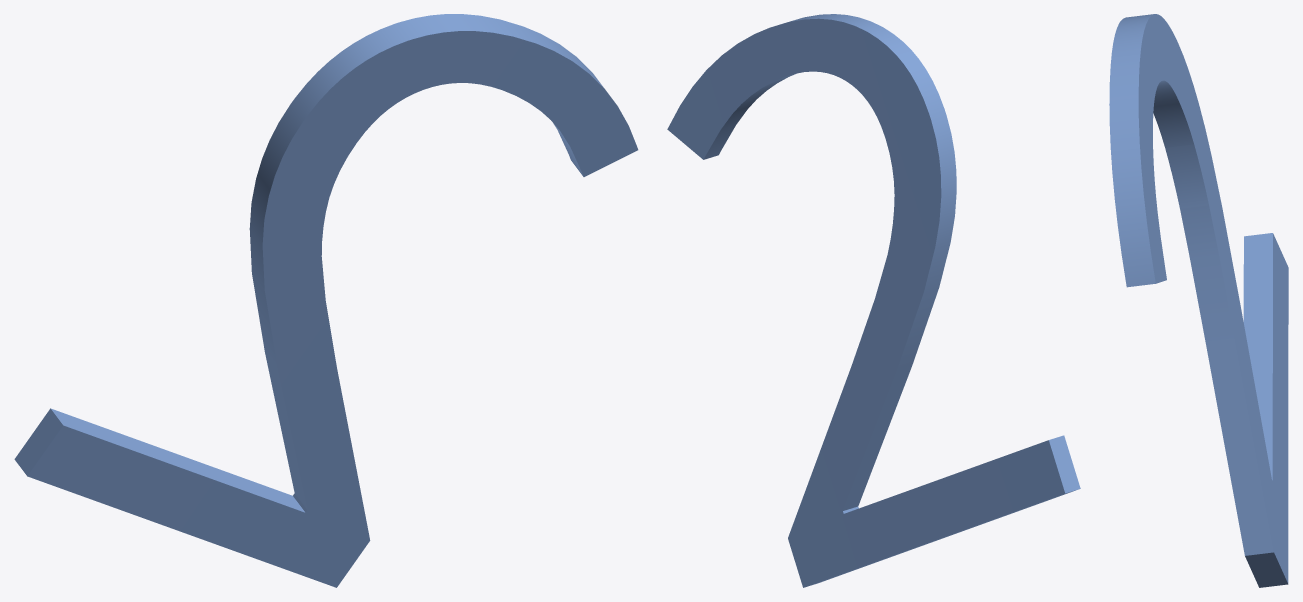
The model's file is New_Number_2.gltf.
The picture shows the model from 3 angles, left to right: view 1: azimuth 30°, elevation 25°; view 2: azimuth 150°, elevation 25°; view 3: azimuth 270°, elevation 25°; orthographic projection. The views are drawn at different scales.
Parts seen in each view (by area): view 1: Part 452; view 2: Part 452; view 3: Part 452.
Boxes of the visible parts, left/top/right/bottom form: Part 452: left=14, top=14, right=638, bottom=587; Part 452: left=667, top=14, right=1080, bottom=587; Part 452: left=1109, top=14, right=1288, bottom=587.
Bounding box in the file's own units: 0.00503 × 0.0054 × 0.00153.
